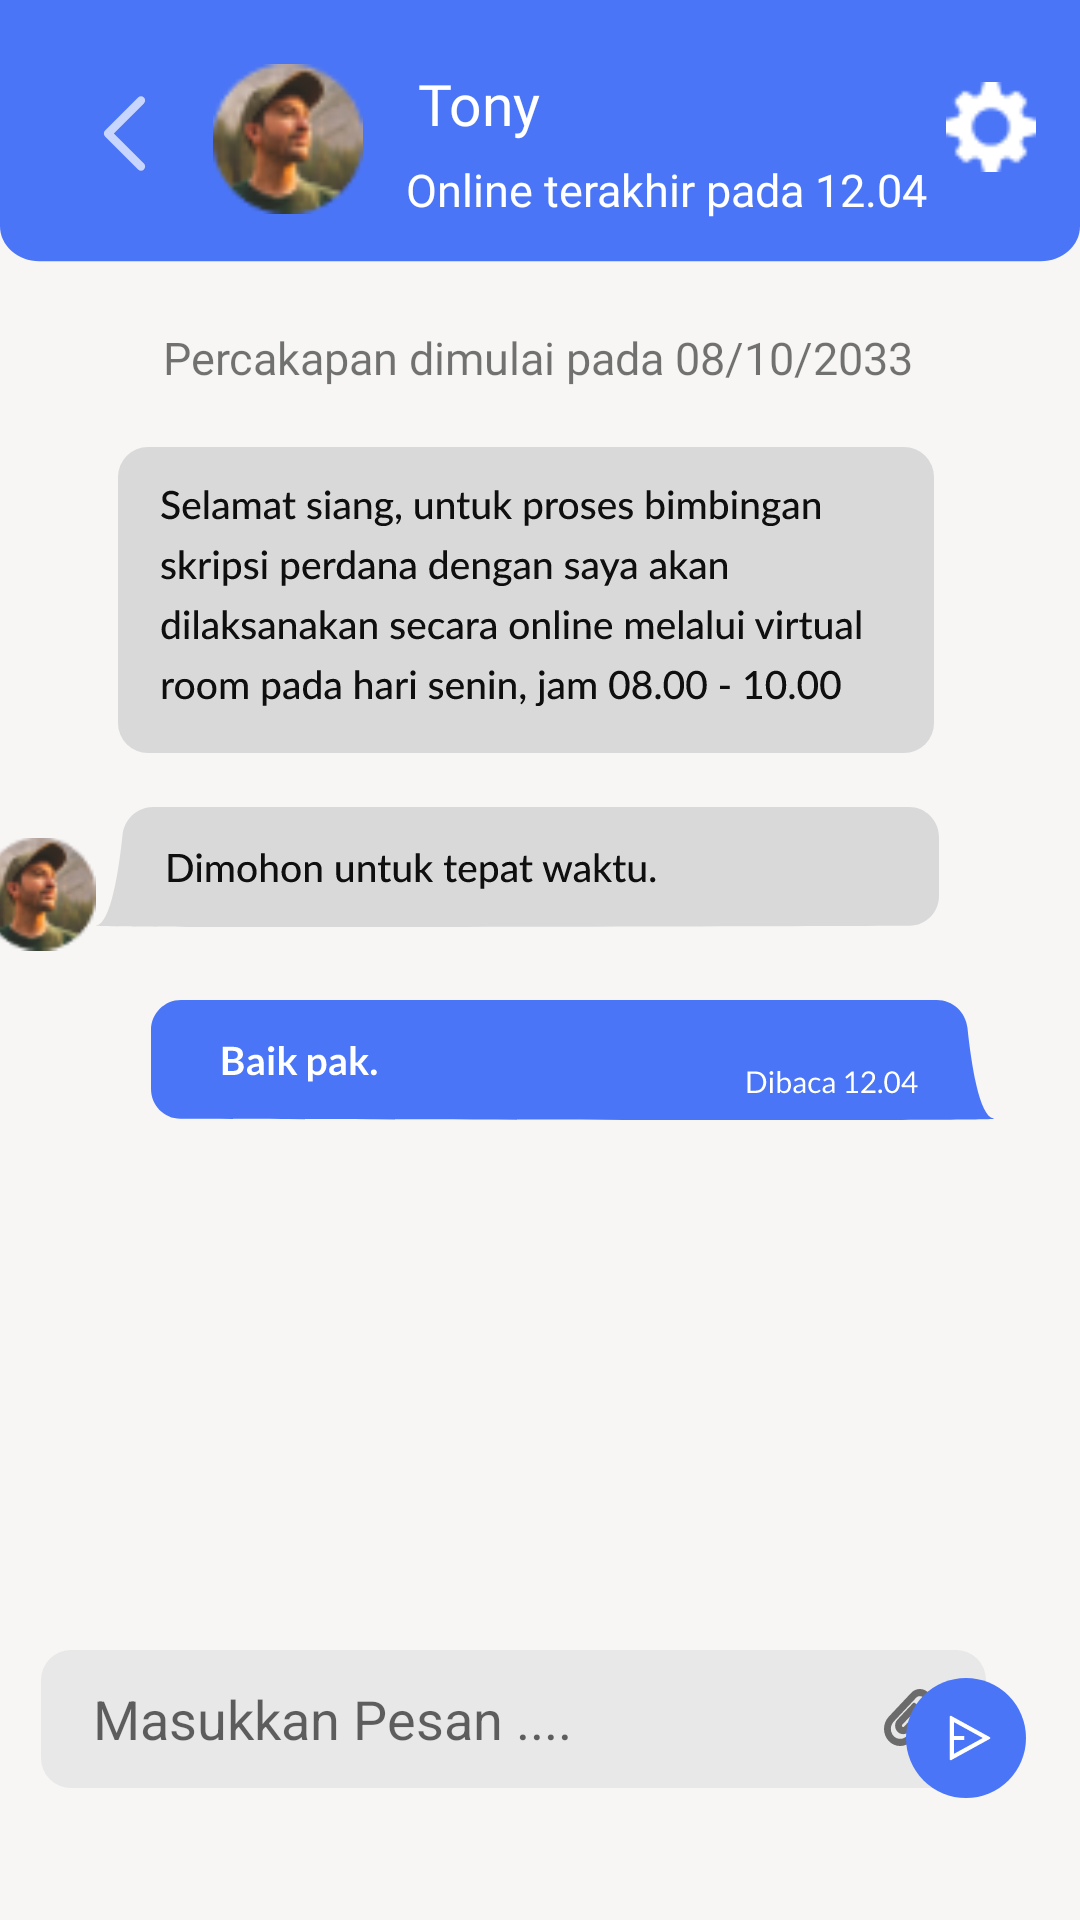

Icon bounding boxes for this 1080 × 1920 phone screenshot, format (x1, y1, x2, y2):
back: (104, 96, 145, 171)
setting: (946, 82, 1036, 172)
